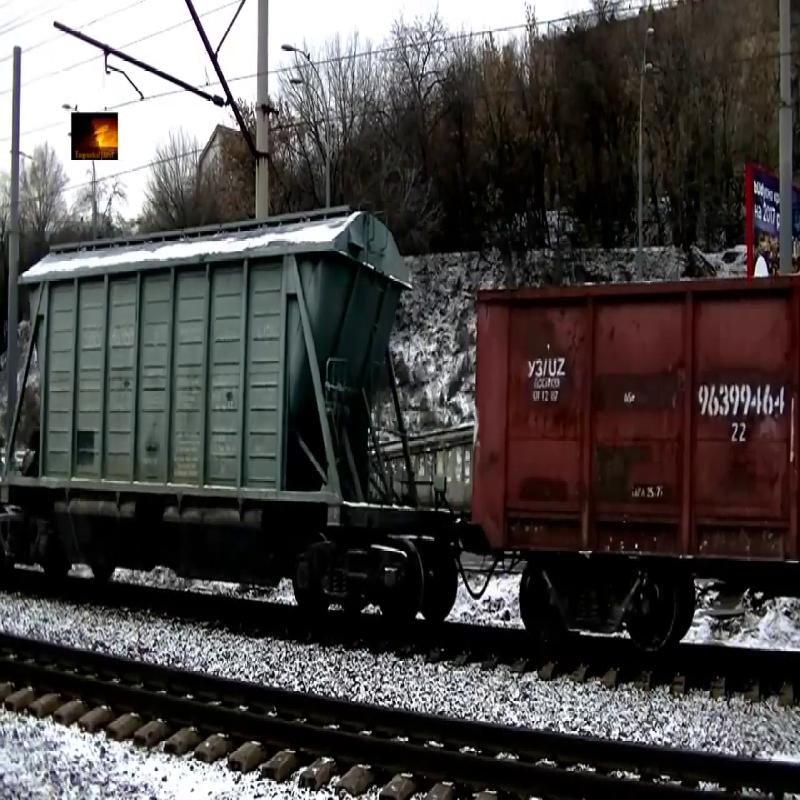train: (6, 204, 421, 546), (468, 267, 800, 579)
